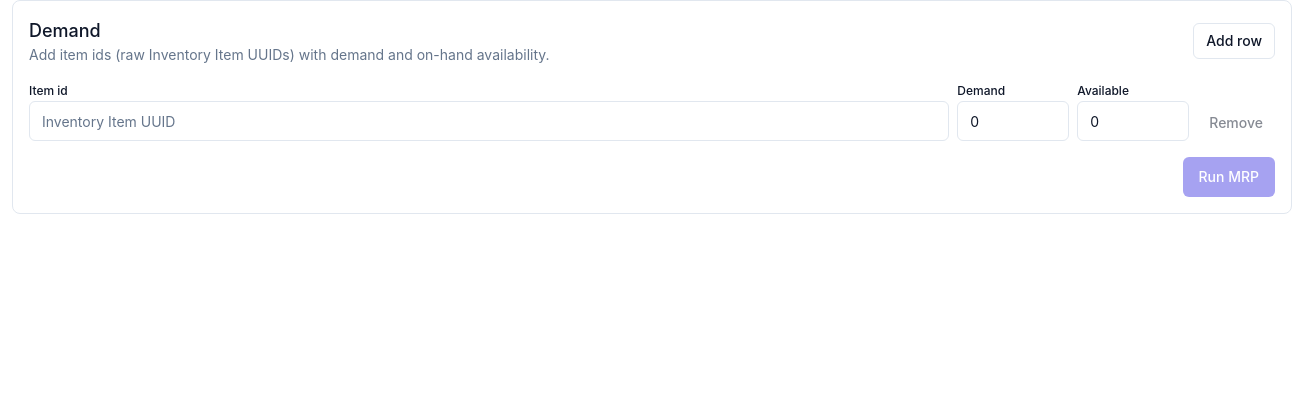
MrpPanel › renders the results table with action badges
The width and height of the screenshot is (1292, 395).
Type "item-a" into the field labelled "Item id".
click(489, 121); type("item-a")  # box [29,101,949,141]
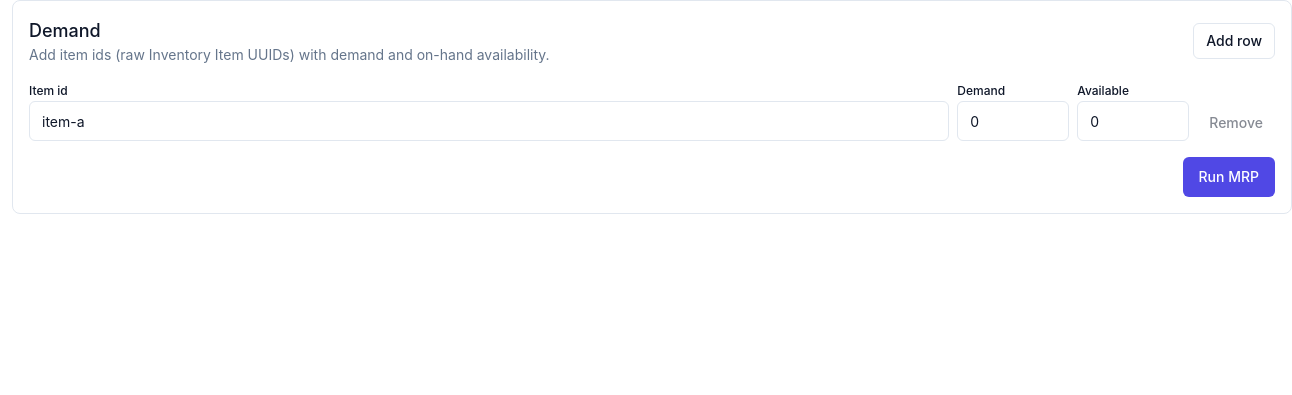
Click the button "Run MRP".
click(1229, 177)  # box [1182,157,1275,197]
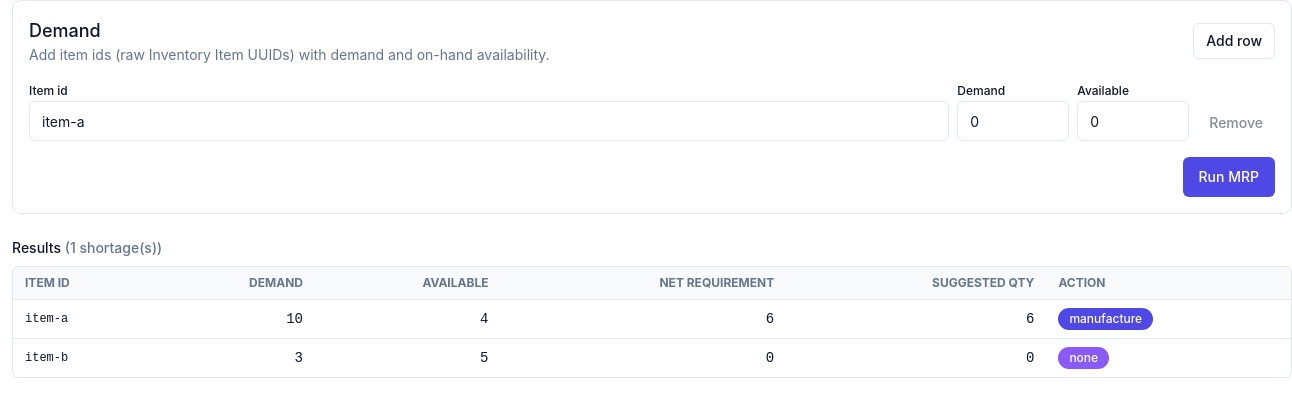
Result: the text "item-a" is shown at [13,300,154,338]
Result: the text "manufacture" is shown at [1058,308,1153,330]
Result: the text "none" is shown at [1058,347,1109,369]
